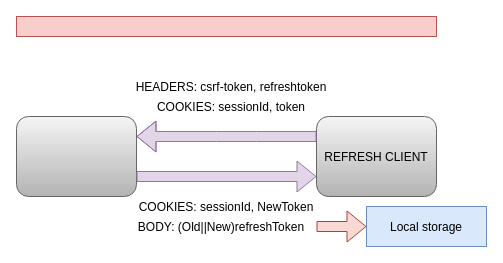
Some shapes in this 503 by 263 pixel diagram are drawn without their labels. Here are the shapes that lost their labels. From the top down, the centre of each, then its label:
At point 226,26: "REFRESH".
At point 76,156: "SERVER".
